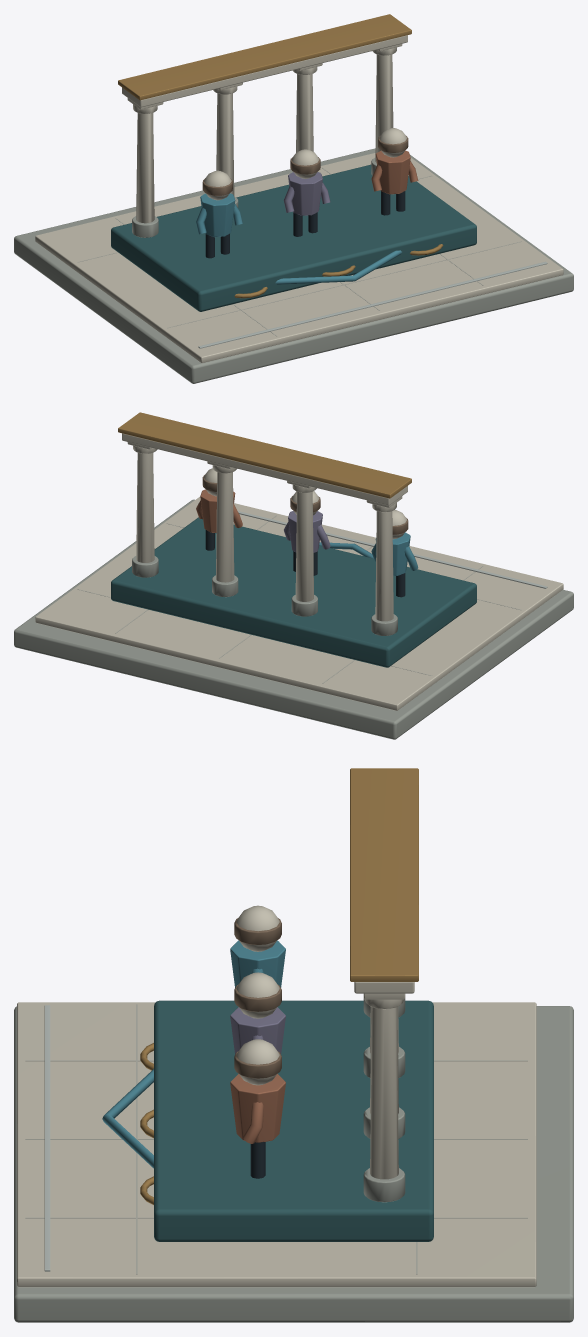
File: idea-7016b9bc.glb
3 renders of one model, top to bottom at view 1: azimuth 30°, elevation 25°; view 2: azimuth 150°, elevation 25°; view 3: azimuth 270°, elevation 25°, orthographic. The views are drawn at different scales.
Parts seen in each view (by area): view 1: Karmic Talent OS; view 2: Karmic Talent OS; view 3: Karmic Talent OS.
Part boxes in pixels (x1,y1,x2,y2): Karmic Talent OS: (14,14,573,383); Karmic Talent OS: (14,412,573,739); Karmic Talent OS: (14,768,573,1322).
Bounding box in the file's own units: 4.8 × 2.36 × 3.9.
